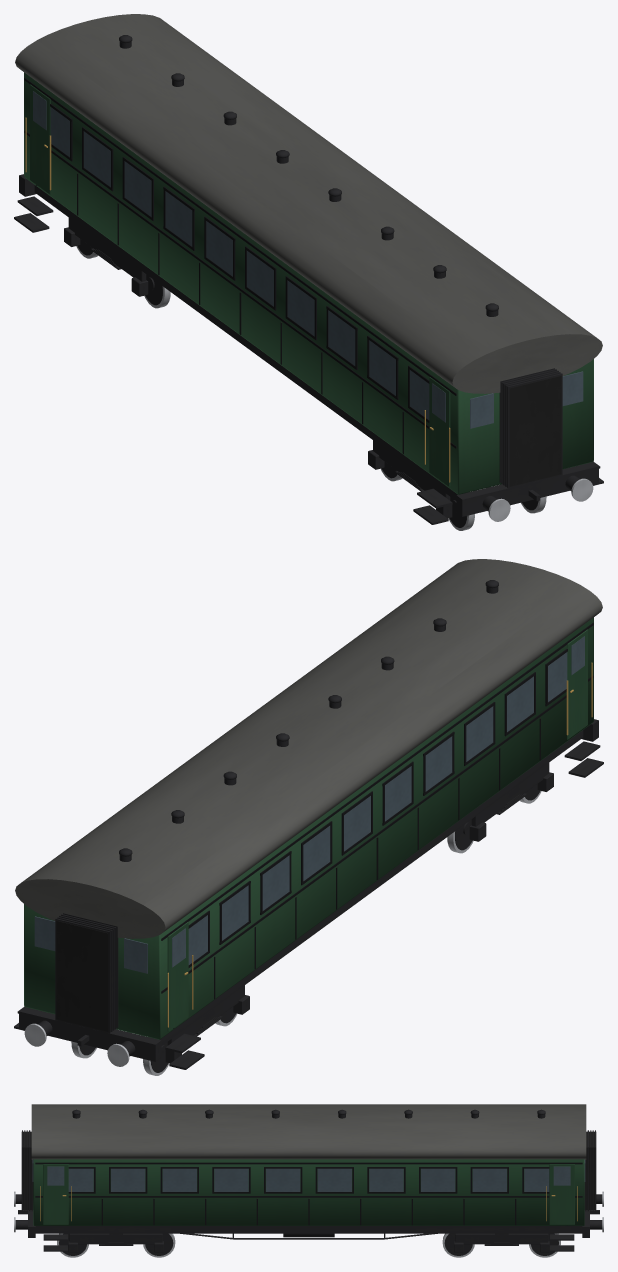
The model's file is OB_Wagon.fbx.
3 views of the same model, one above another, from view 1: azimuth 30°, elevation 25°; view 2: azimuth 150°, elevation 25°; view 3: azimuth 270°, elevation 25° (orthographic). The views are drawn at different scales.
Visible parts, largest first — view 1: Wagon; view 2: Wagon; view 3: Wagon.
Part boxes in pixels (x1,y1,x2,y2): Wagon: (14,14,603,530); Wagon: (14,559,603,1075); Wagon: (14,1104,603,1257).
Bounding box in the file's own units: 3.65 × 4.34 × 17.13.
